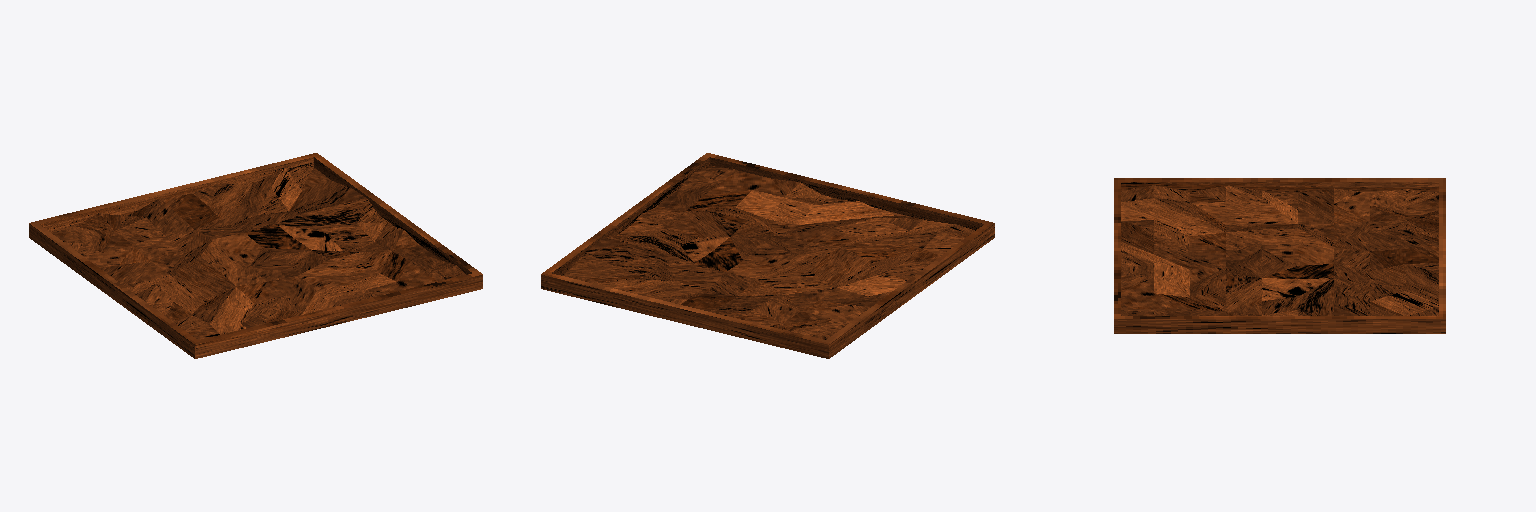
3 renders of one model, left to right at view 1: azimuth 30°, elevation 25°; view 2: azimuth 150°, elevation 25°; view 3: azimuth 270°, elevation 25°, orthographic.
Visible parts, largest first — view 1: Cube.001; view 2: Cube.001; view 3: Cube.001.
Part boxes in pixels (x1,y1,x2,y2): Cube.001: (29,153,482,358); Cube.001: (541,153,994,358); Cube.001: (1114,178,1445,333).
Bounding box in the file's own units: 95.29 × 4.59 × 95.29.
1 materials, 1 textured.